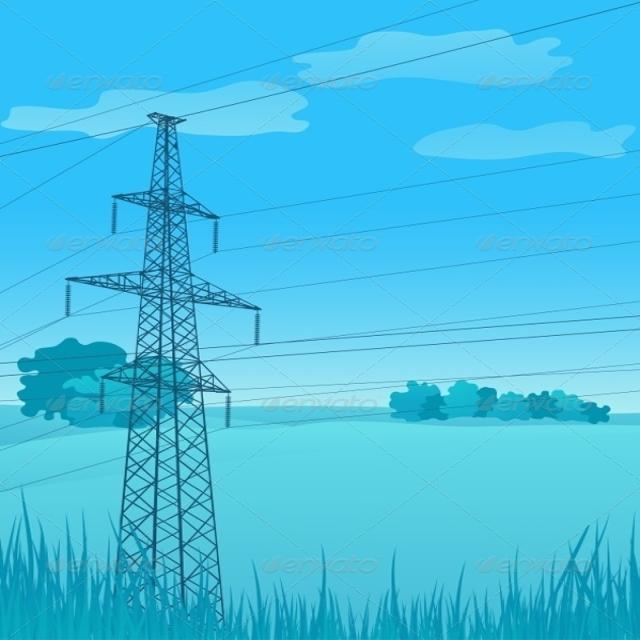non-critical vegetation: (74, 105, 272, 626)
